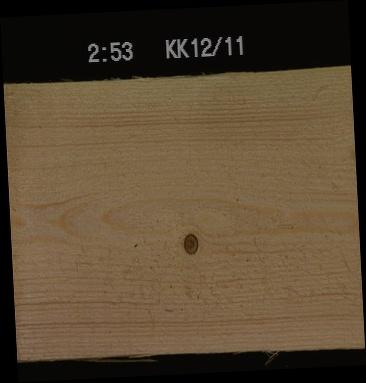dry_knot: (180, 230, 199, 256)
